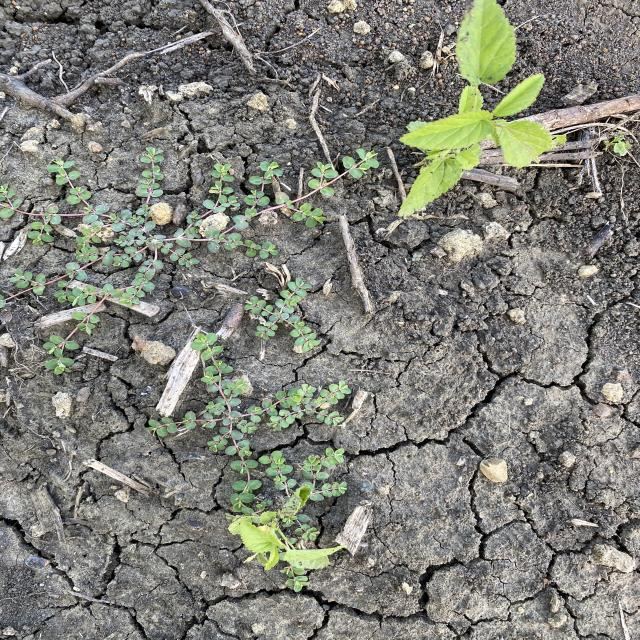PricklySida: (397, 1, 555, 220), (225, 516, 348, 572)
SpottedSpurge: (2, 145, 380, 377), (147, 331, 354, 512), (278, 537, 312, 593)
